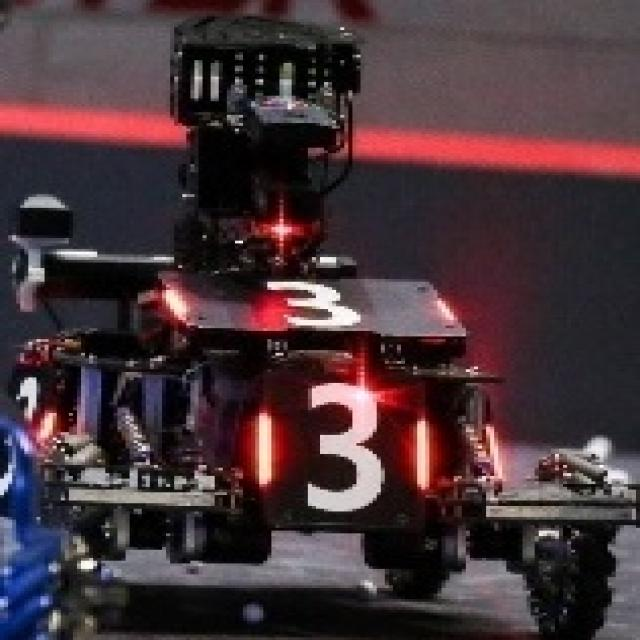R3: (154, 260, 474, 344), (251, 380, 442, 512)
